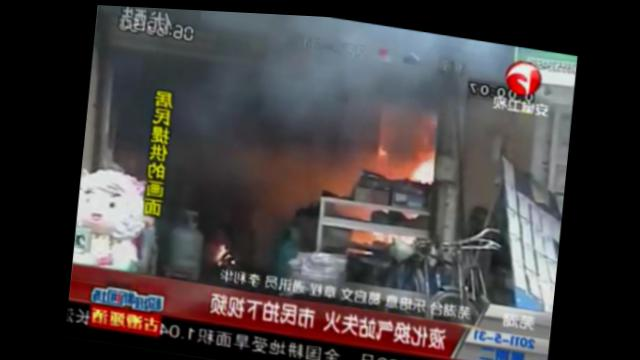fire: (408, 146, 437, 180)
